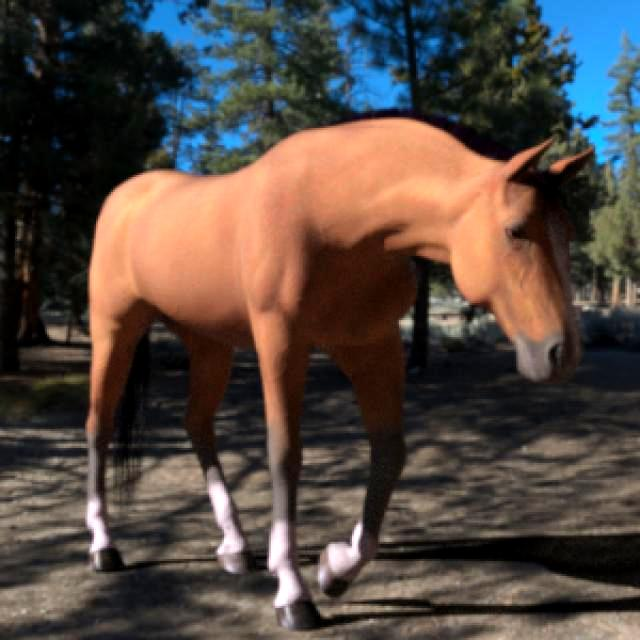horse: (89, 112, 591, 629)
